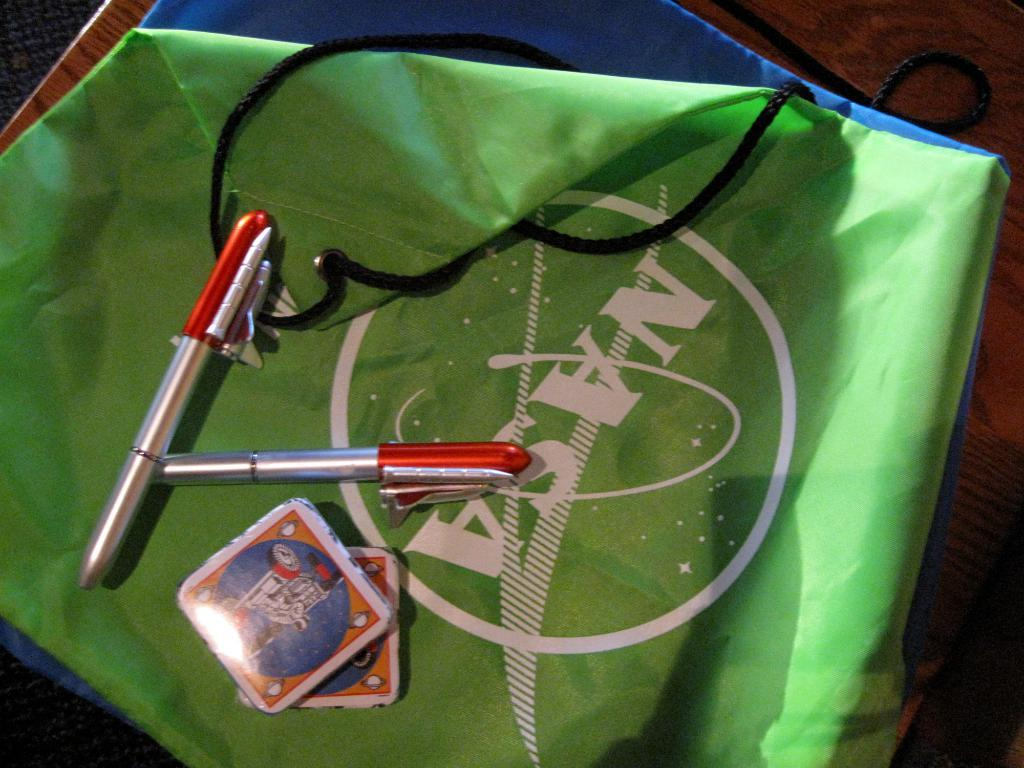pen: (60, 205, 269, 600), (143, 444, 535, 501)
